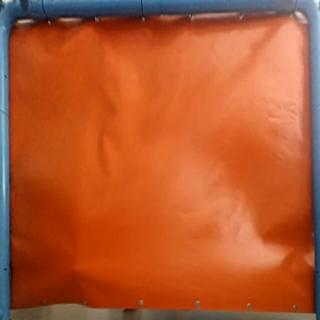Hit-hRxx: (68, 262, 86, 279)
